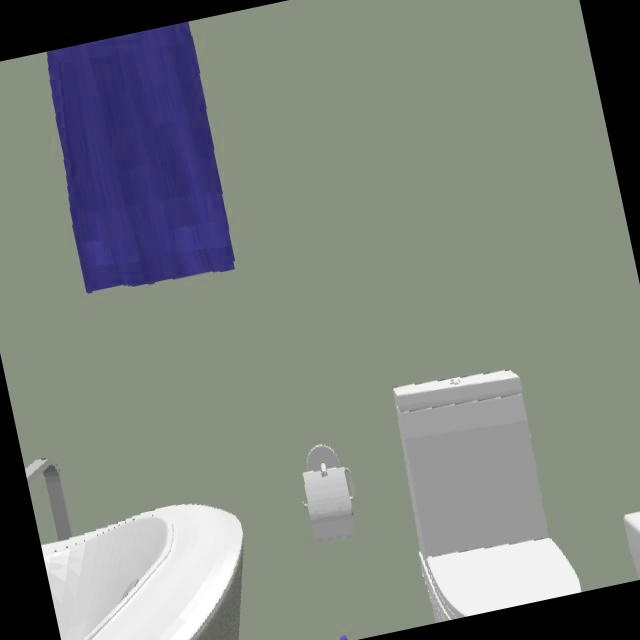bathtube: (41, 505, 245, 640)
toilet: (394, 369, 582, 623)
